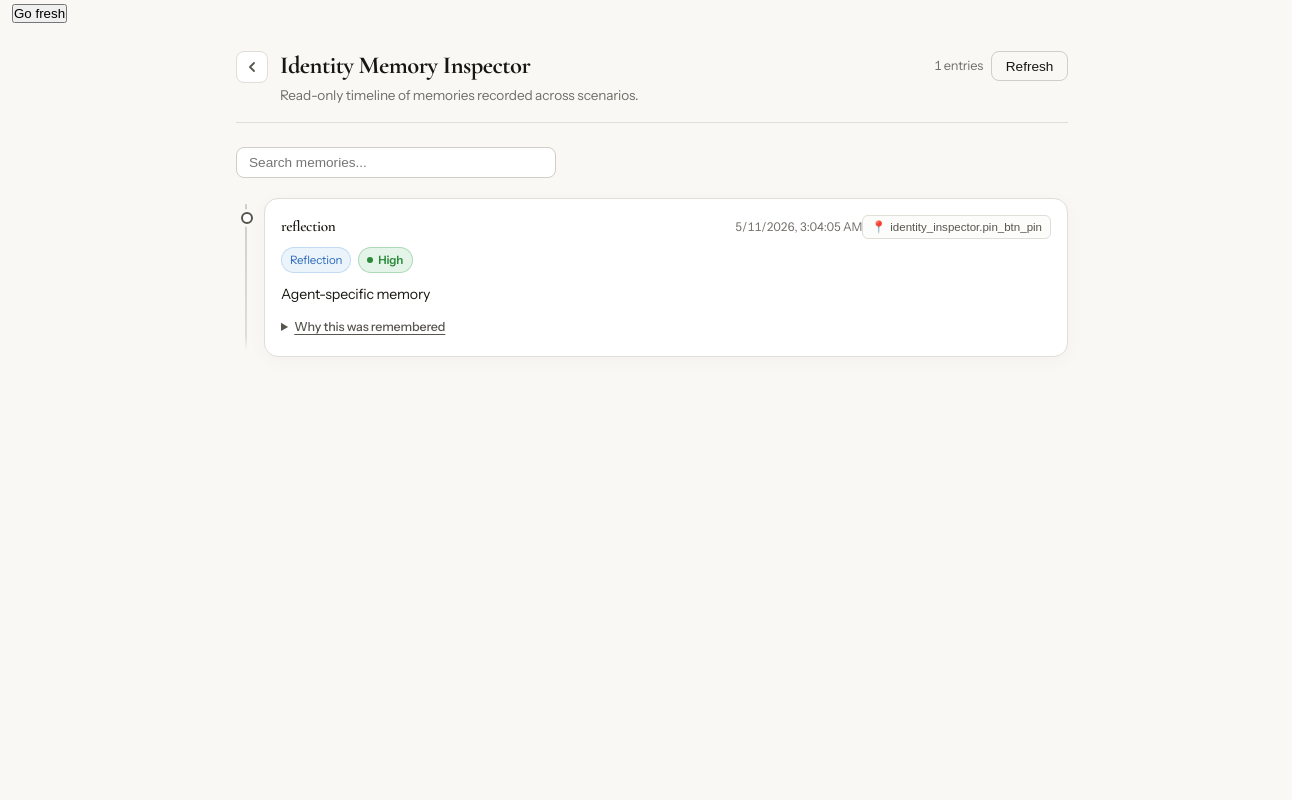
Test case: IdentityInspectorView › prioritizes memory_kind and explains bounded per-agent memory provenance
Expected: the number of headings "reflection" is 2, [281,217,336,237]; [281,247,351,273]
Expected: the text "high" is shown, [358,247,413,273]
Click the heading "Why this was remembered": coordinates (370, 327) [294,319,445,334]
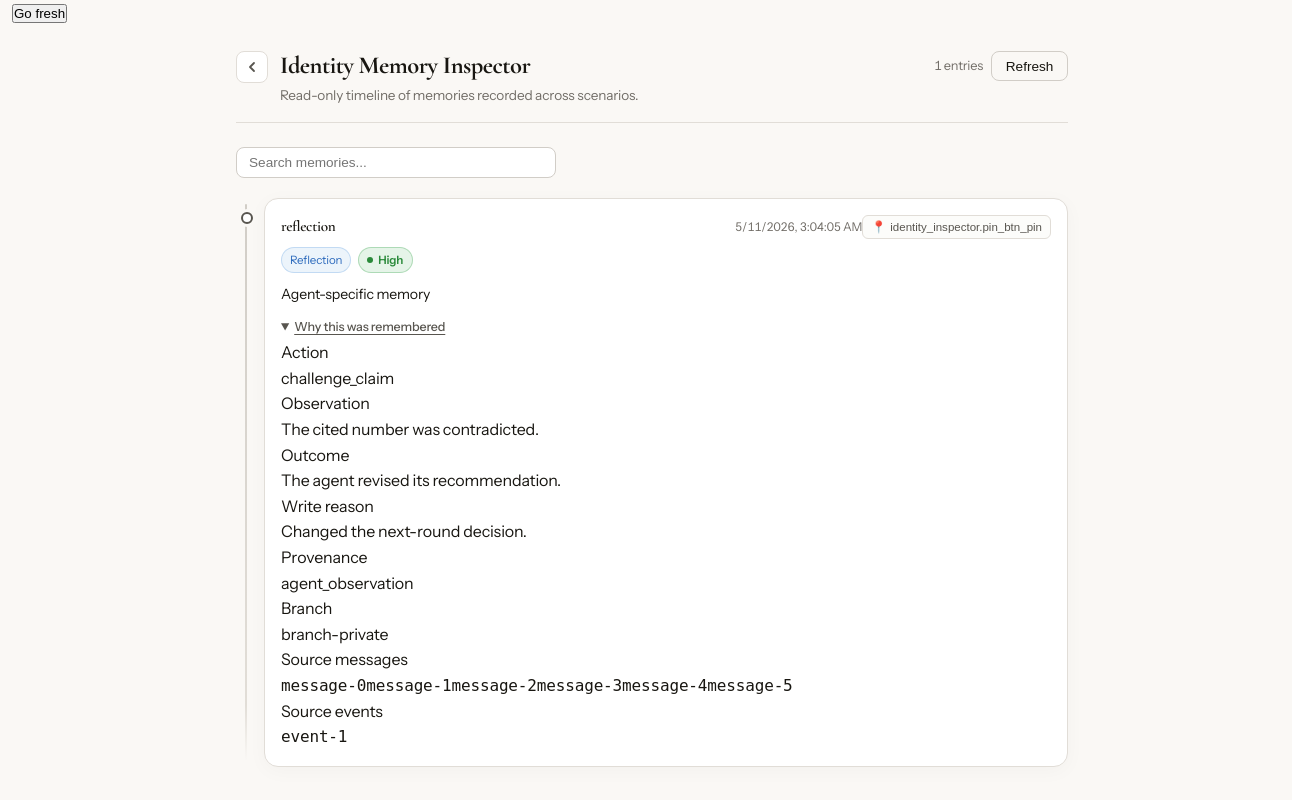
Expected: the text "challenge_claim" is shown, [281,368,394,388]
Expected: the text "The cited number was contradicted." is shown, [281,419,539,439]
Expected: the text "The agent revised its recommendation." is shown, [281,470,561,490]
